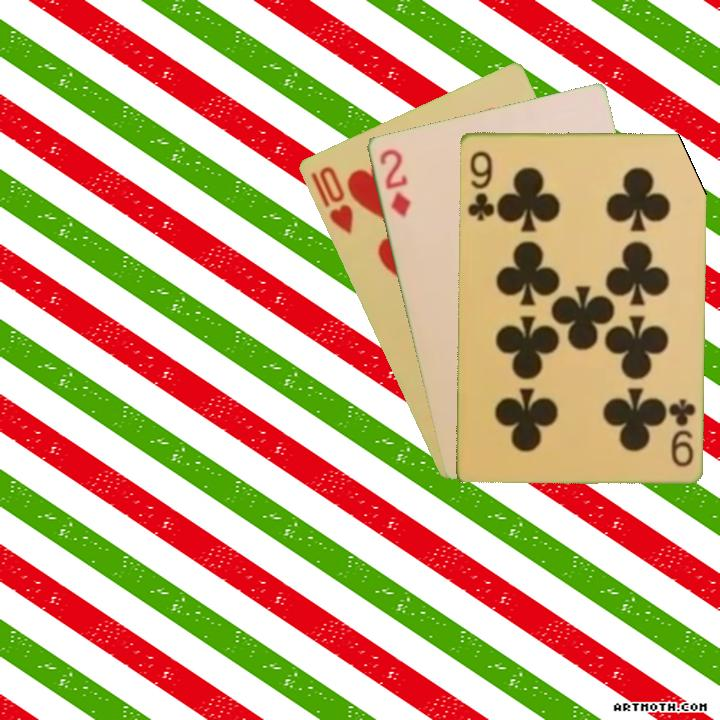10h: (306, 162, 356, 237)
2d: (375, 145, 413, 220)
9c: (463, 147, 496, 224), (665, 394, 698, 469)
